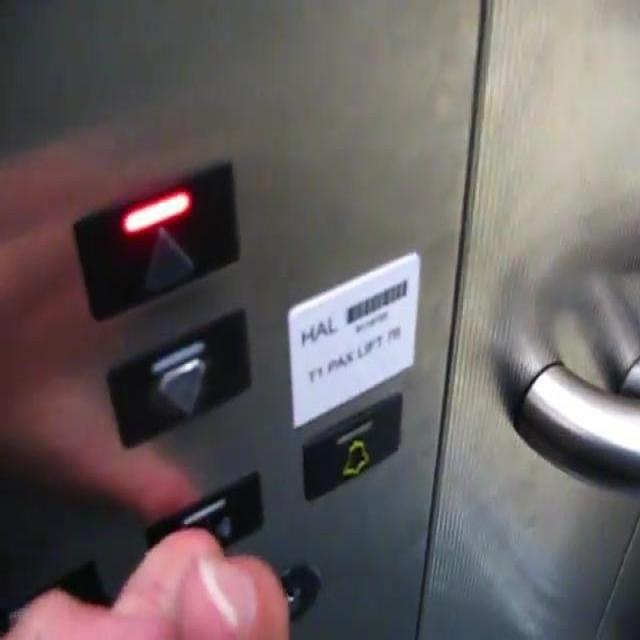alarm: (297, 386, 402, 506)
down: (100, 304, 254, 451)
up: (67, 151, 243, 321)
